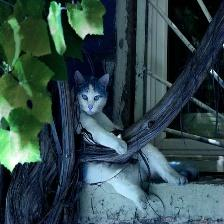kedo: (75, 71, 189, 210)
